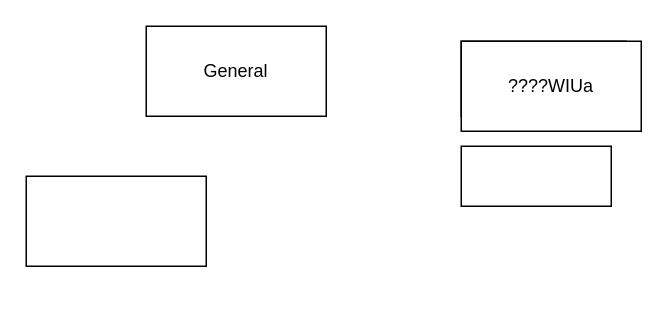
The diagram is 668 pixels wide and 324 high, and some of its shapes have lost their labels. The box of each missing label's shape, as (x1, y1, x2, y2) in pixels:
Basic: (25, 175, 206, 266)
Entity Relation: (460, 145, 611, 206)
